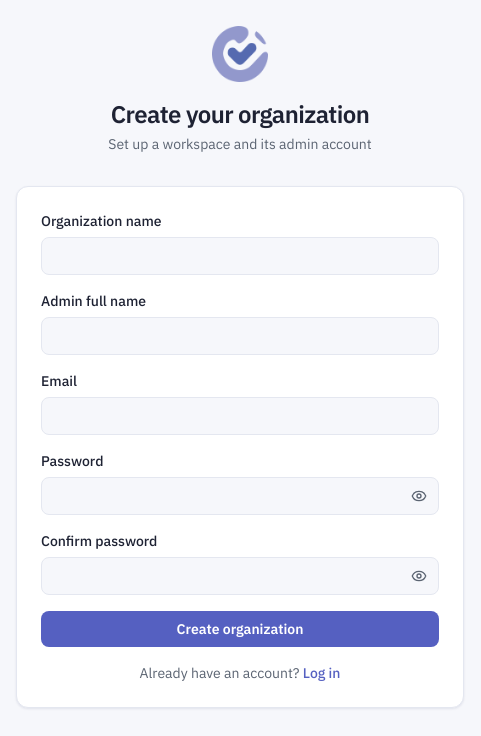
Test: register organization › validates password confirmation client-side
In the field labelled "Organization name": coordinates (240, 256) x1=41 y1=237 x2=439 y2=275, type "Acme"
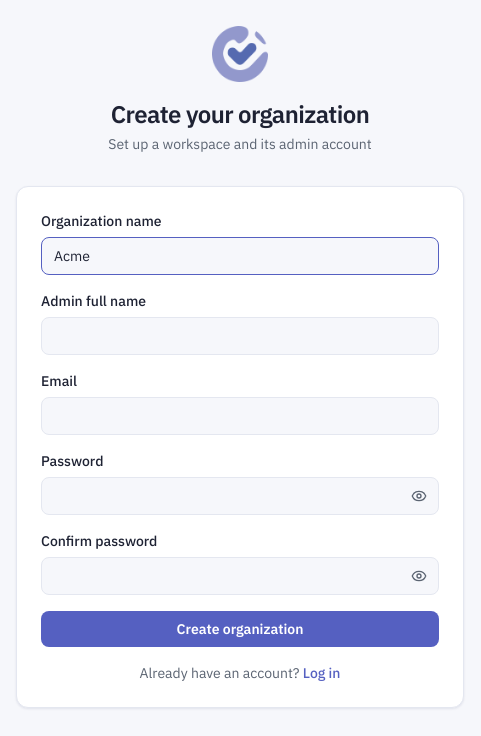
In the field labelled "Admin full name": coordinates (240, 336) x1=41 y1=317 x2=439 y2=355, type "Ava"
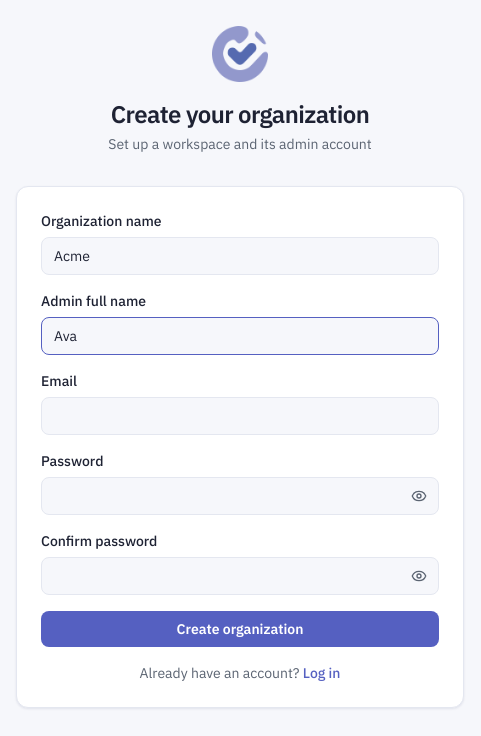
In the field labelled "Email": coordinates (240, 416) x1=41 y1=397 x2=439 y2=435, type "ava@acme.test"
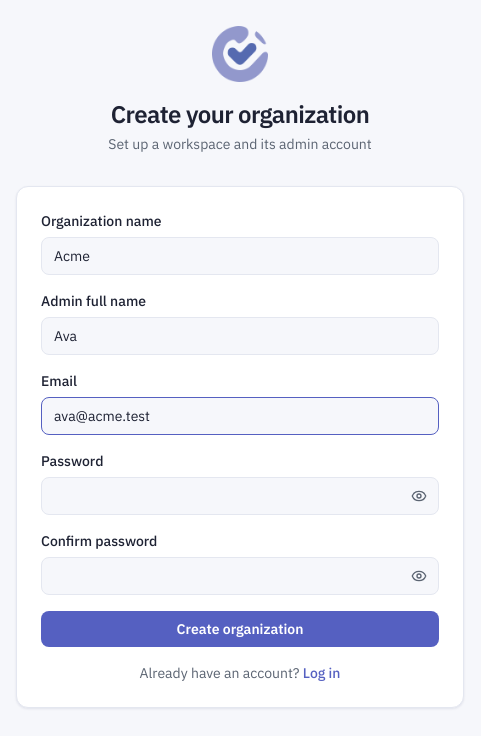
In the password field labelled "Password": coordinates (240, 496) x1=41 y1=477 x2=439 y2=515, type "password123"
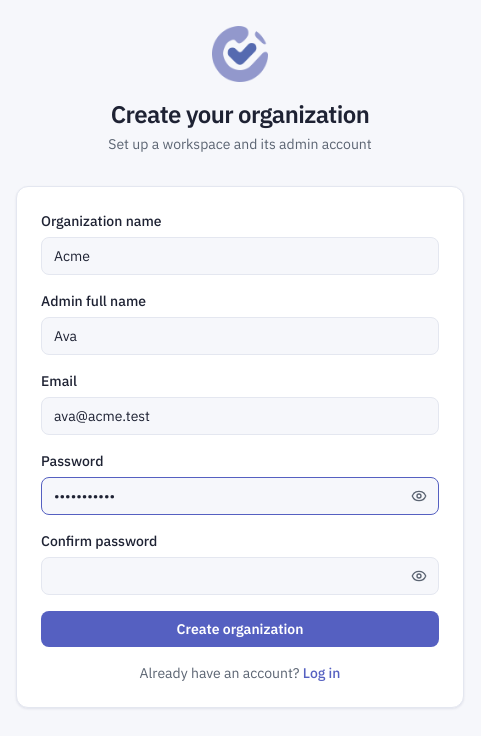
In the password field labelled "Confirm password": coordinates (240, 576) x1=41 y1=557 x2=439 y2=595, type "different1"
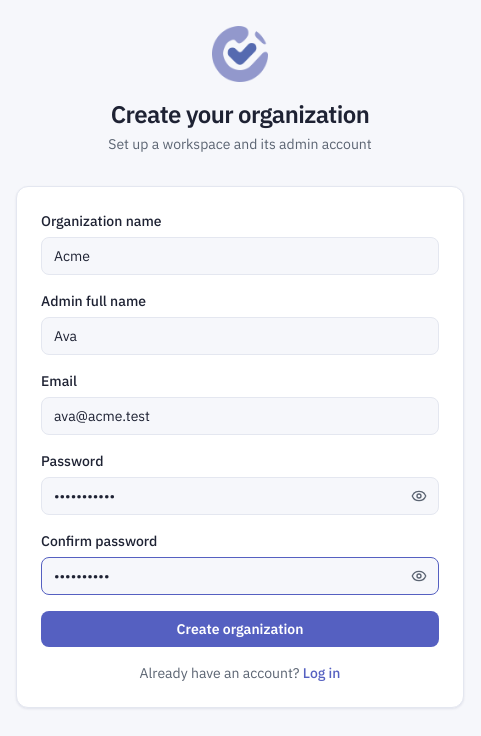
Click the button "Create organization": coordinates (240, 629) x1=41 y1=611 x2=439 y2=647
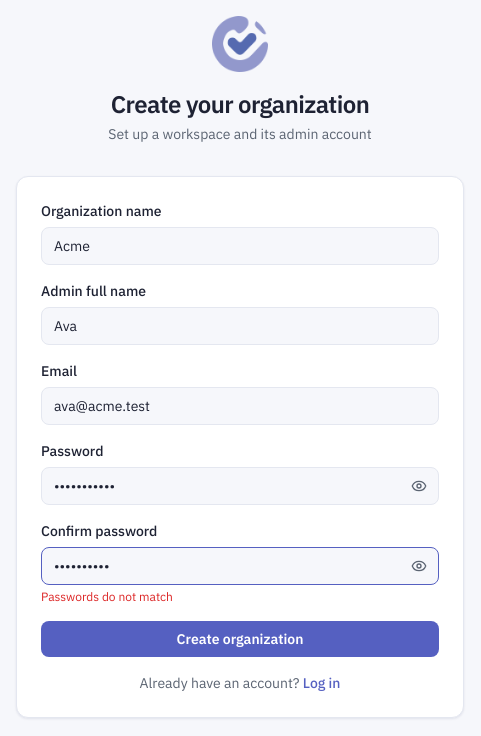
Expected: the text "Passwords do not match" is shown, x1=41 y1=589 x2=173 y2=604
